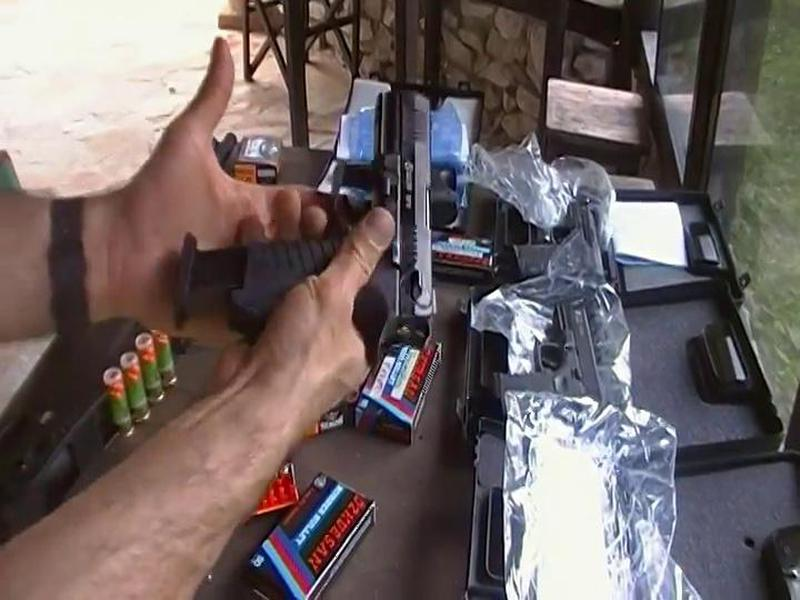Pistola: (216, 86, 465, 357)
